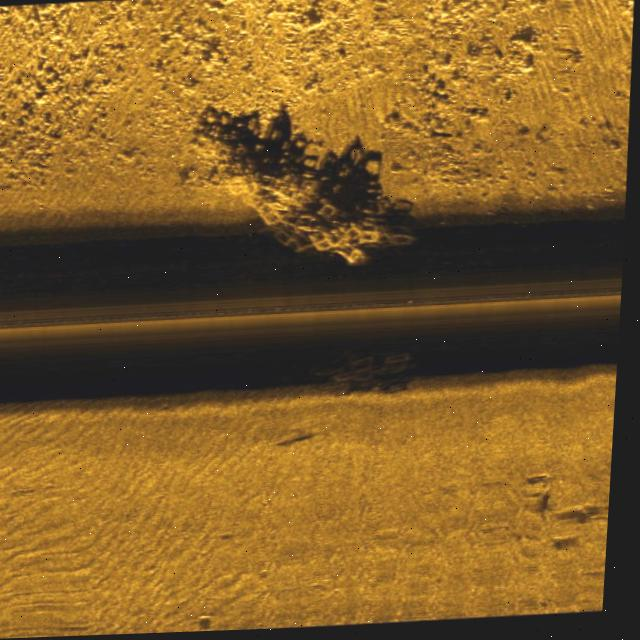artificial reef: (173, 102, 406, 281), (328, 352, 423, 402)
